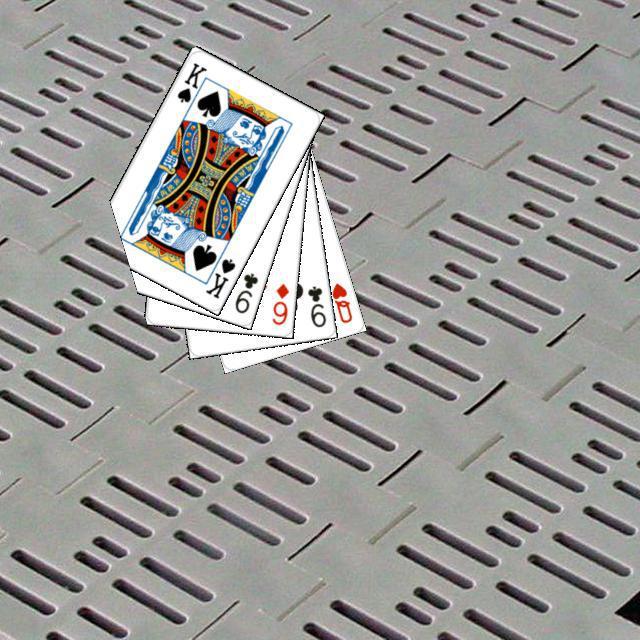6d: (267, 278, 290, 327)
9c: (230, 268, 260, 315), (303, 281, 328, 329)
Ks: (172, 58, 209, 112), (200, 253, 237, 300)
Qh: (327, 278, 354, 325)
